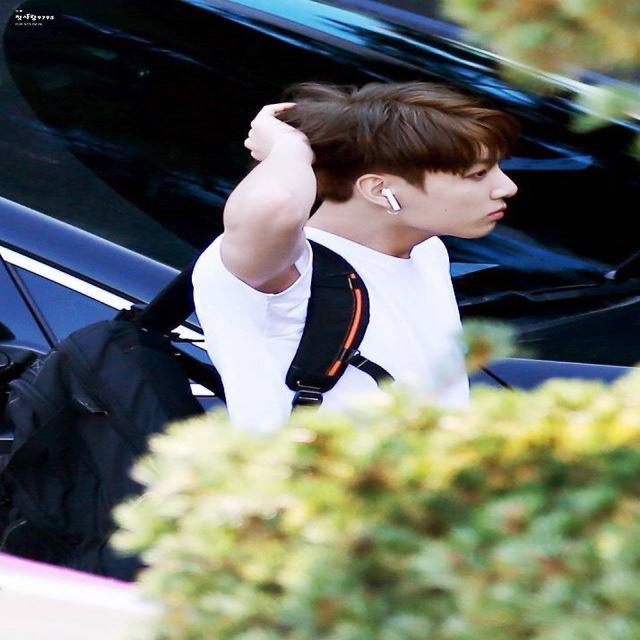earphone: (382, 185, 413, 233)
